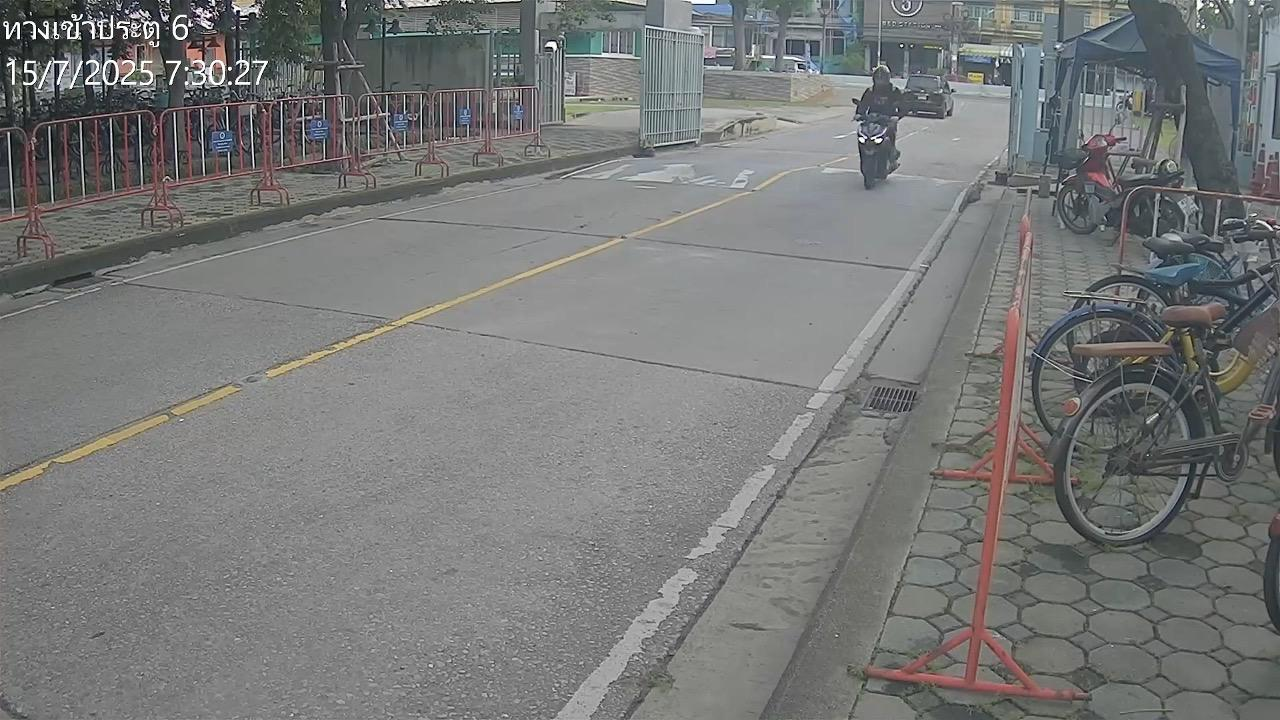With-Helmet: (871, 65, 893, 87)
